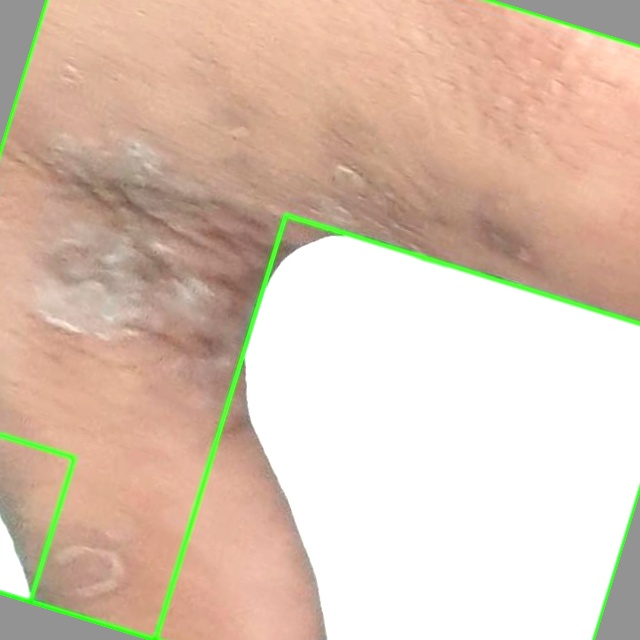Scabies: (0, 0, 639, 639), (155, 215, 639, 639)
